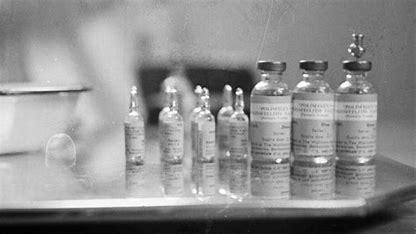Syringe: (335, 47, 383, 173), (249, 53, 296, 171), (292, 56, 339, 170), (116, 86, 156, 169), (158, 85, 188, 170), (194, 87, 224, 168), (226, 80, 250, 168)
